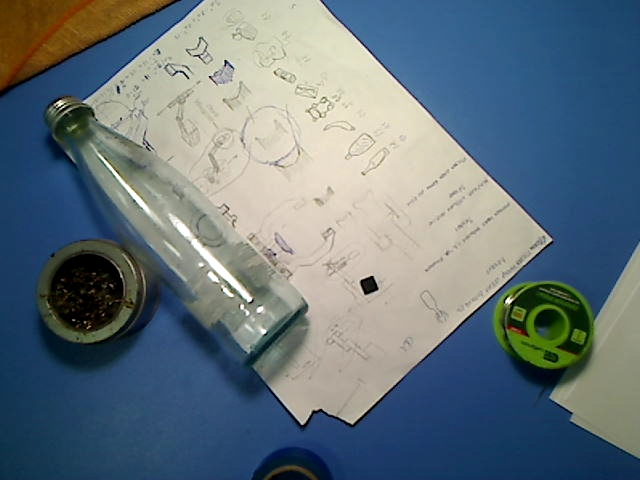bottle: (41, 94, 308, 366)
